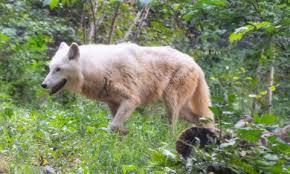Wolf: (42, 41, 216, 150)
